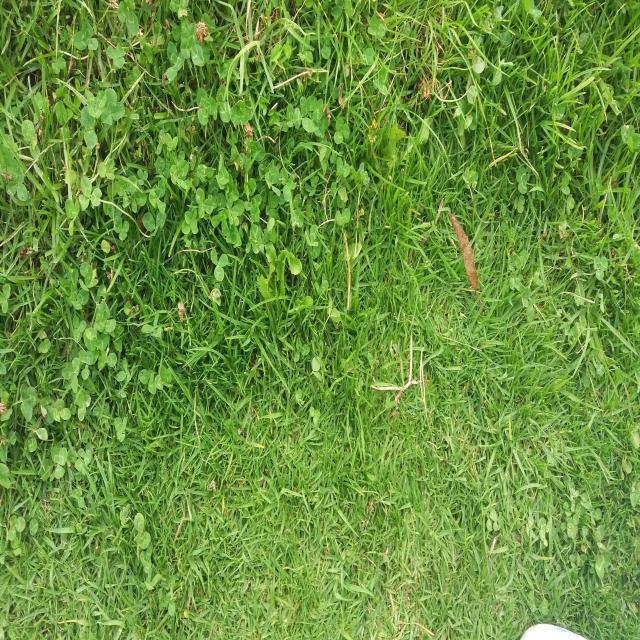Four Leaf Clover: (296, 170, 332, 205), (266, 191, 280, 228)
